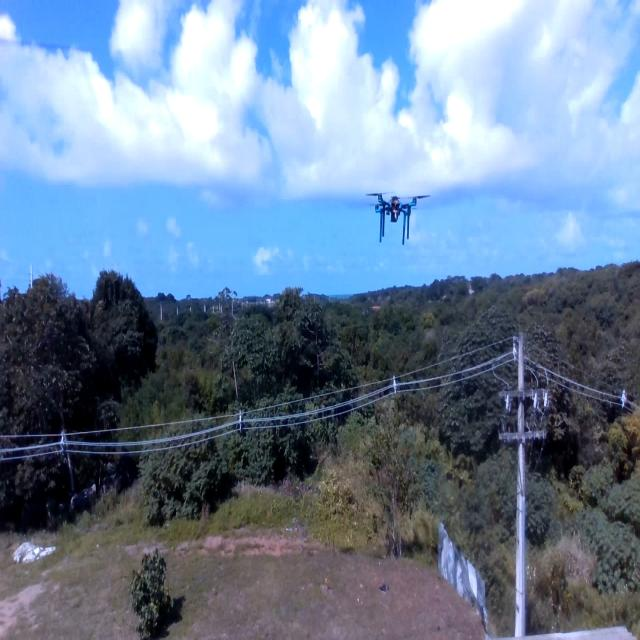-uav-: (360, 172, 435, 253)
